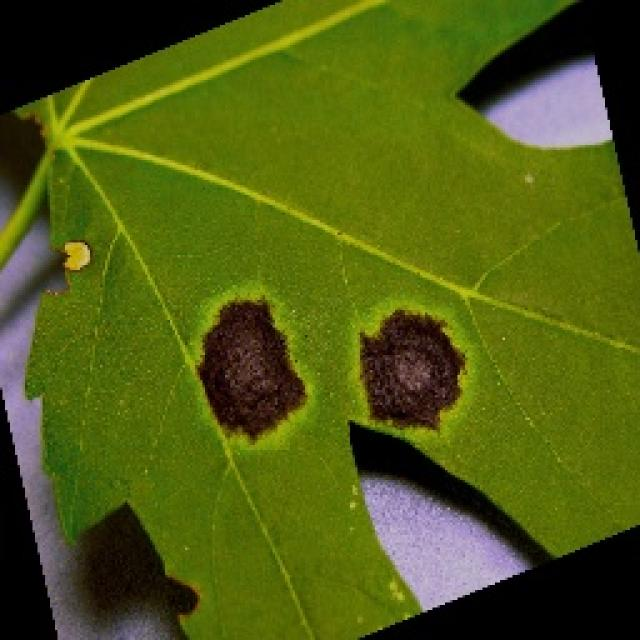Tar_Spot: (0, 0, 638, 638), (121, 236, 537, 479)
